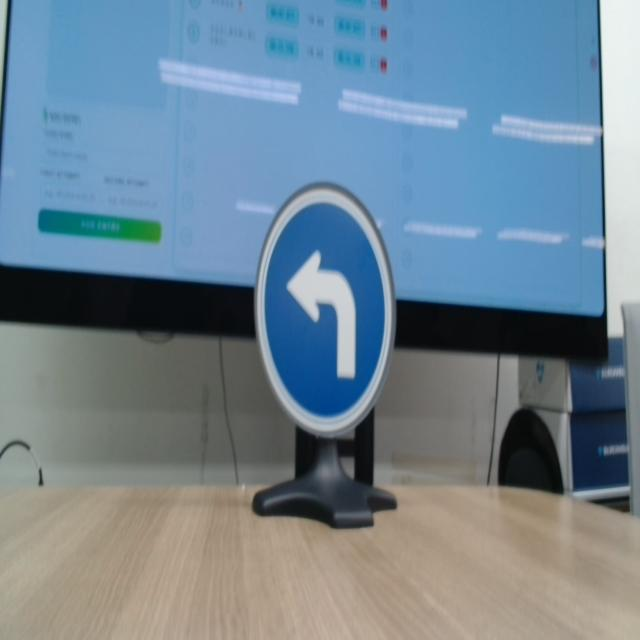left_direction: (245, 162, 423, 452)
